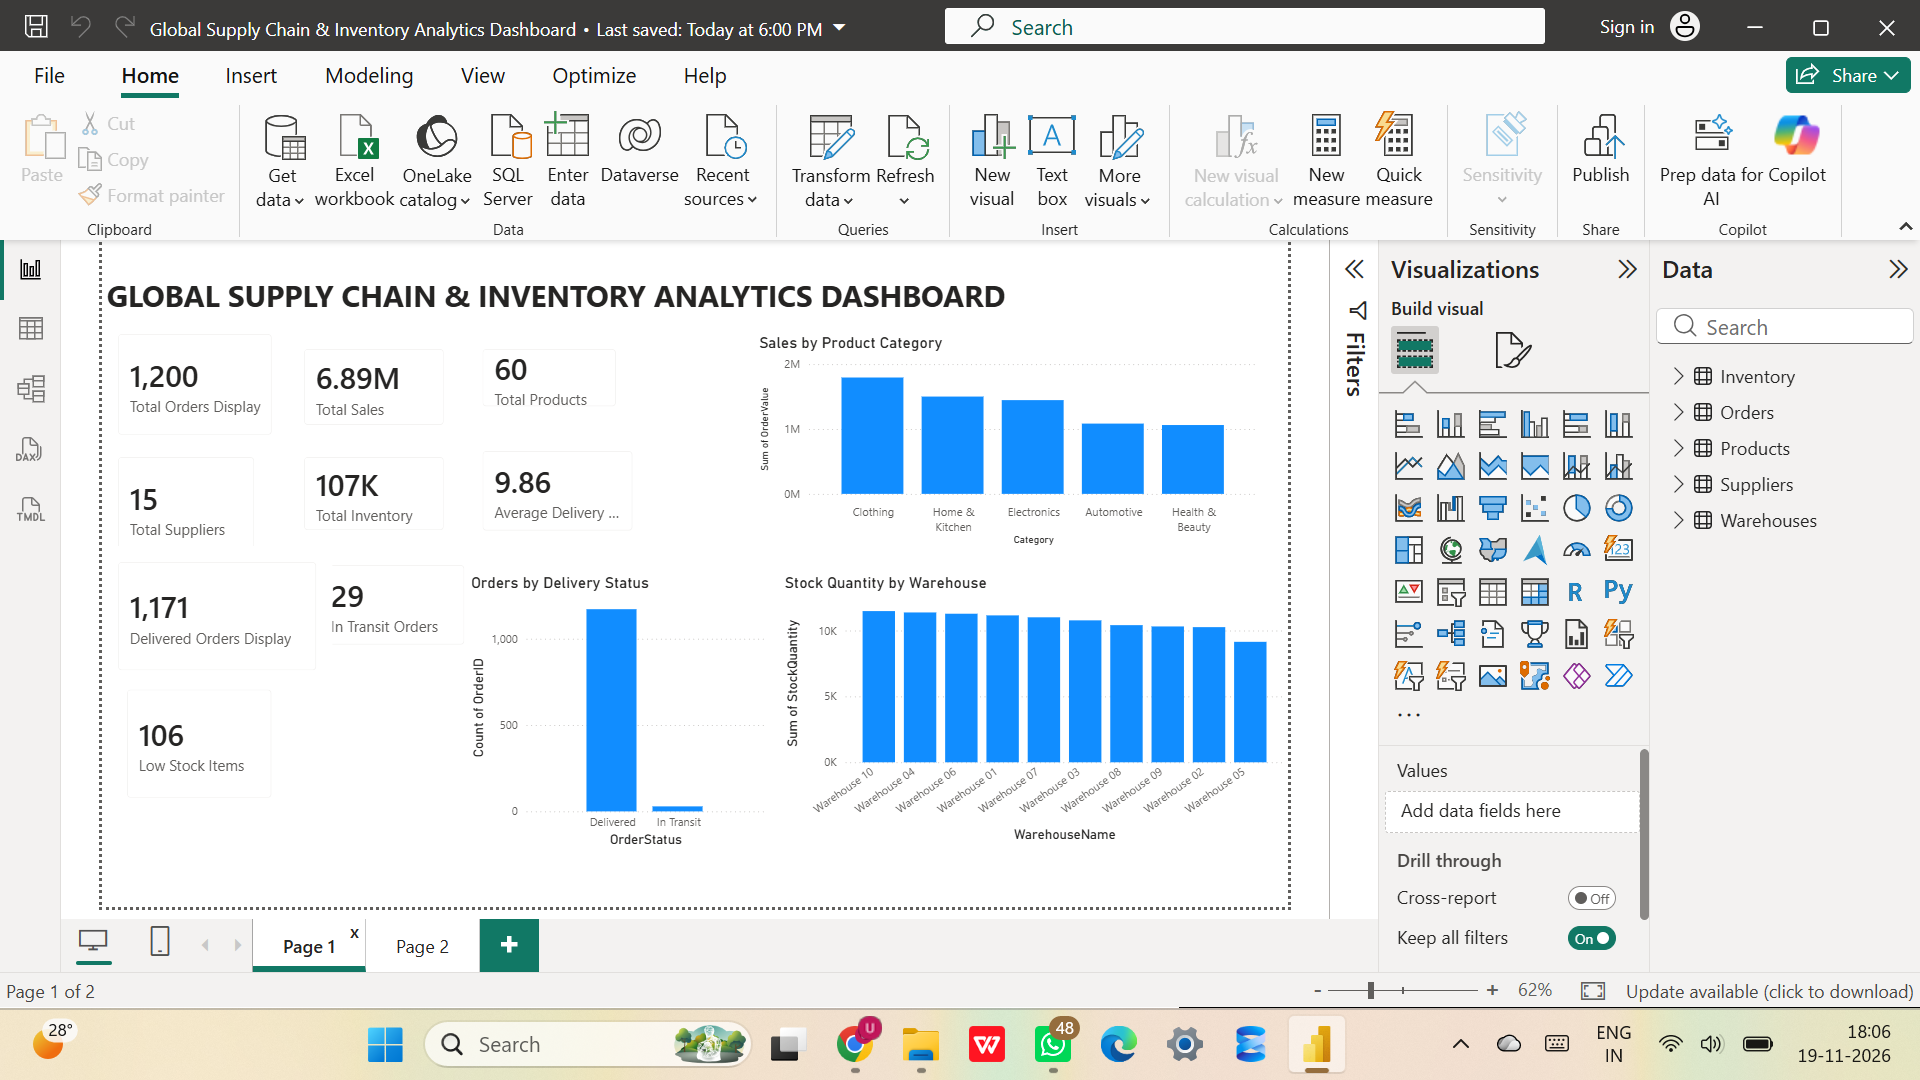

Layout of this report page (visuals, bound fields, positions):
{"tool":"powerbi","page":{"name":"Page 1","canvas":[1280,720],"ordinal":0},"visuals":[{"type":"cardVisual","fields":{"Data":["Inventory.Total Orders Display"]},"box":[0,85,200,143.3],"z":0},{"type":"cardVisual","fields":{"Data":["Inventory.Total Sales"]},"box":[200,100,185,116.7],"z":1000},{"type":"cardVisual","fields":{"Data":["Inventory.Total Products"]},"box":[393.3,100,178.3,96.7],"z":2000},{"type":"cardVisual","fields":{"Data":["Inventory.Total Suppliers"]},"box":[0,216.7,181.7,143.3],"z":3000},{"type":"cardVisual","fields":{"Data":["Inventory.Total Inventory"]},"box":[200,216.7,185,113.3],"z":4000},{"type":"cardVisual","fields":{"Data":["Inventory.Average Delivery Days"]},"box":[393.3,210,196.7,120],"z":5000},{"type":"cardVisual","fields":{"Data":["Inventory.Low Stock Items"]},"box":[10,468.3,190,151.7],"z":6000},{"type":"cardVisual","fields":{"Data":["Inventory.In Transit Orders"]},"box":[216.7,333.3,191.7,120],"z":7000},{"type":"cardVisual","fields":{"Data":["Inventory.Delivered Orders Display"]},"box":[0,330,248.3,151.7],"z":8000},{"type":"textbox","box":[0,32.2,991.5,54.2],"z":9000},{"type":"clusteredColumnChart","title":"Sales by Product Category","fields":{"Category":["Products.Category"],"Y":["Sum(Orders.OrderValue)"]},"box":[705,100,548.3,233.3],"z":10000},{"type":"clusteredColumnChart","title":"Stock Quantity by Warehouse","fields":{"Category":["Warehouses.WarehouseName"],"Y":["Sum(Inventory.StockQuantity)"]},"box":[731.7,360,548.3,295],"z":11000},{"type":"clusteredColumnChart","title":"Orders by Delivery Status","fields":{"Category":["Orders.OrderStatus"],"Y":["Count(Orders.OrderID)"]},"box":[393.3,360,326.7,300],"z":12000}]}

Visuals, with their boxes on the page's 1280x720 design canvas (x1, y1, x2, y2). These are canvas units, not pixel positions in the 1920x1080 screenshot, which may show the page scaled, cropped or inside an application window:
cardVisual - Inventory.Total Orders Display: [x1=0, y1=85, x2=200, y2=228]
cardVisual - Inventory.Total Sales: [x1=200, y1=100, x2=385, y2=217]
cardVisual - Inventory.Total Products: [x1=393, y1=100, x2=572, y2=197]
cardVisual - Inventory.Total Suppliers: [x1=0, y1=217, x2=182, y2=360]
cardVisual - Inventory.Total Inventory: [x1=200, y1=217, x2=385, y2=330]
cardVisual - Inventory.Average Delivery Days: [x1=393, y1=210, x2=590, y2=330]
cardVisual - Inventory.Low Stock Items: [x1=10, y1=468, x2=200, y2=620]
cardVisual - Inventory.In Transit Orders: [x1=217, y1=333, x2=408, y2=453]
cardVisual - Inventory.Delivered Orders Display: [x1=0, y1=330, x2=248, y2=482]
textbox: [x1=0, y1=32, x2=992, y2=86]
"Sales by Product Category" clusteredColumnChart: [x1=705, y1=100, x2=1253, y2=333]
"Stock Quantity by Warehouse" clusteredColumnChart: [x1=732, y1=360, x2=1280, y2=655]
"Orders by Delivery Status" clusteredColumnChart: [x1=393, y1=360, x2=720, y2=660]
